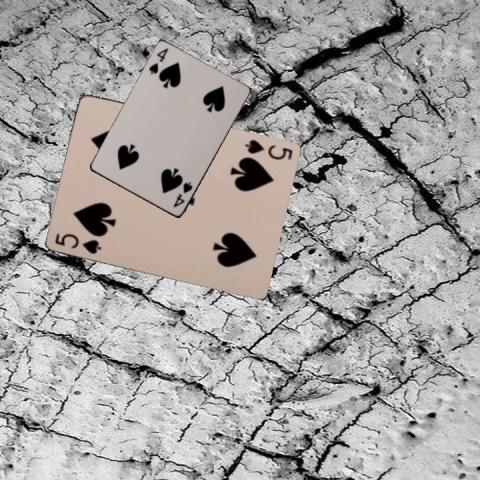4s: (146, 45, 170, 76), (170, 180, 194, 210)
5s: (242, 136, 295, 161), (52, 230, 103, 255)
